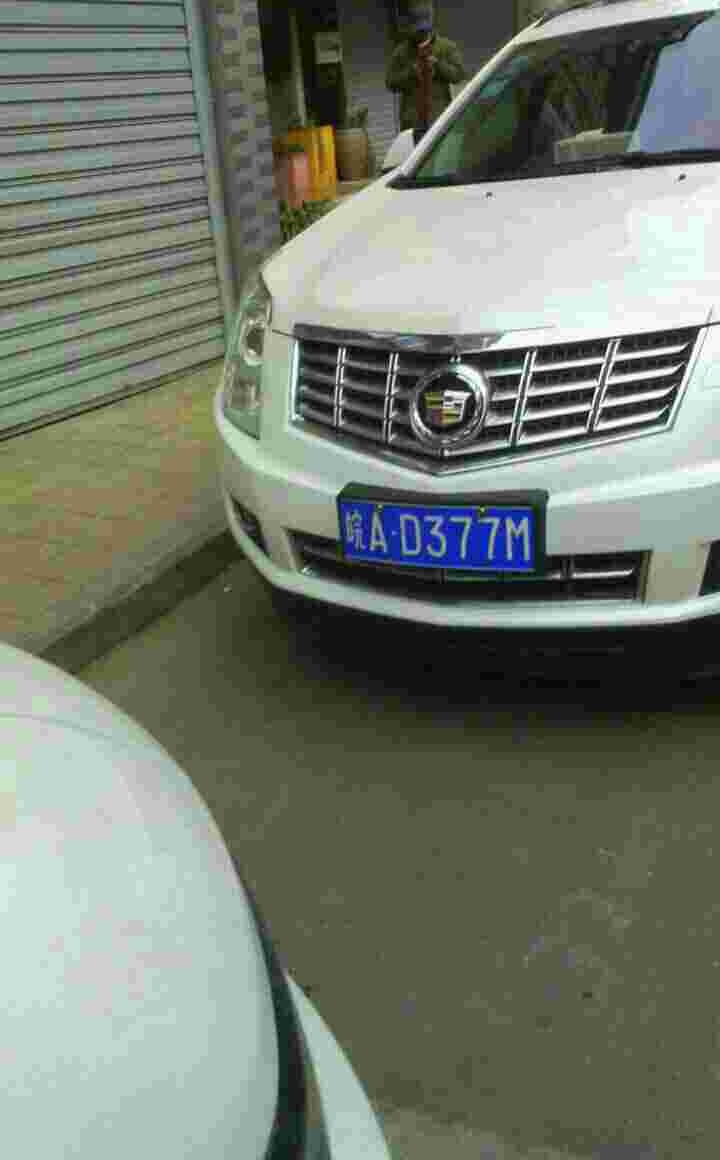license_plate: (336, 500, 537, 575)
